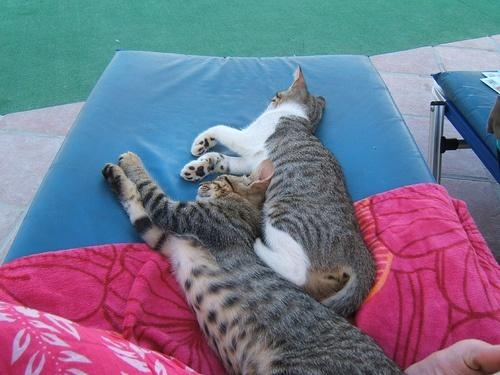cat: (104, 153, 404, 375), (181, 64, 376, 316)
